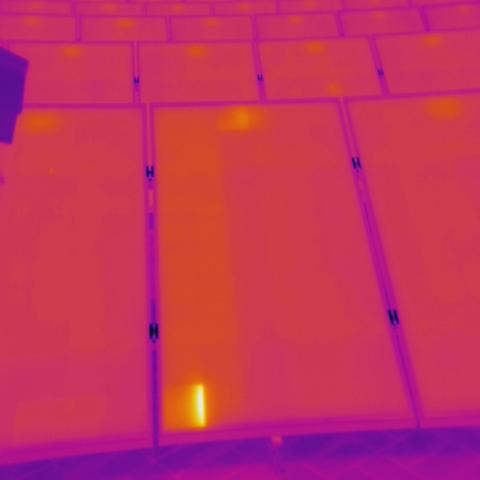fault: (188, 380, 211, 440)
